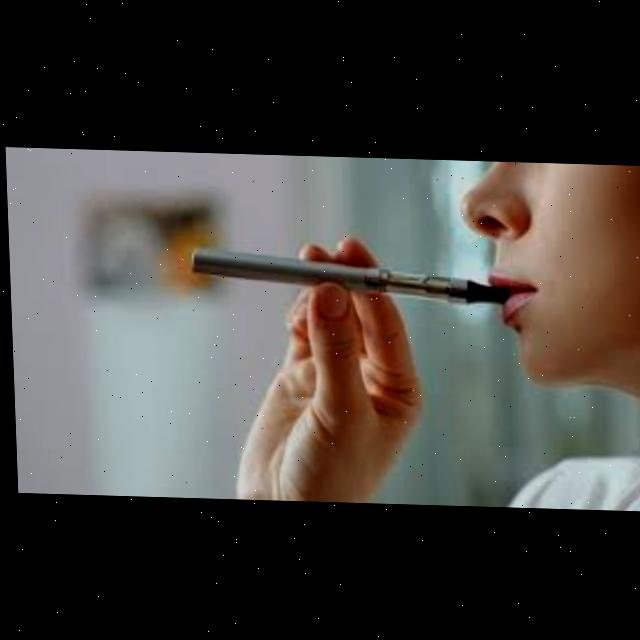vape: (188, 246, 512, 310)
